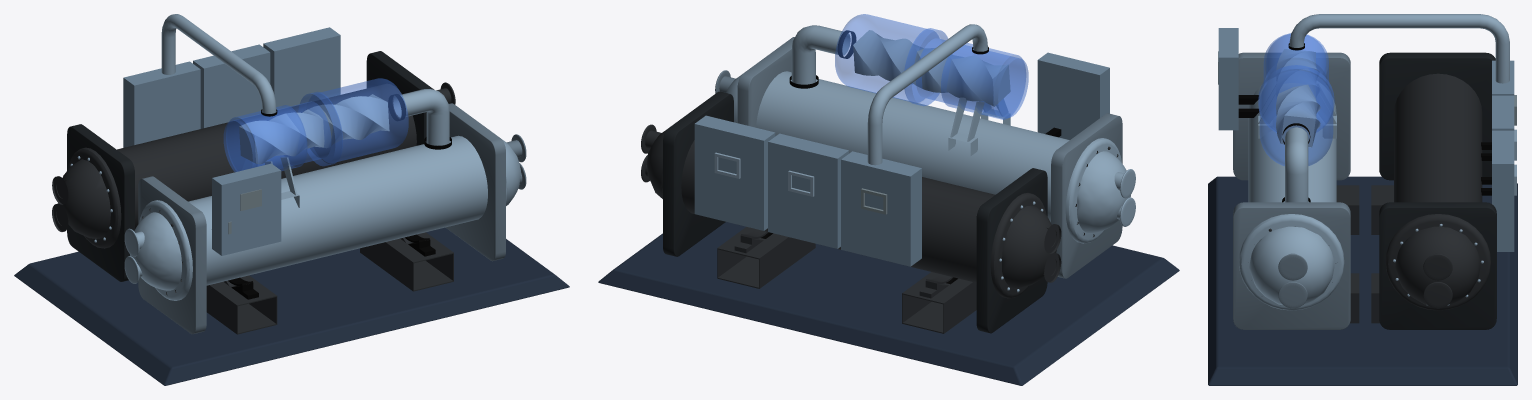
File: 螺杆机.glb
The picture shows the model from 3 angles, left to right: view 1: azimuth 30°, elevation 25°; view 2: azimuth 150°, elevation 25°; view 3: azimuth 270°, elevation 25°; orthographic projection. The views are drawn at different scales.
Parts seen in each view (by area): view 1: 立方体408, 柱体476, 柱体477, 立方体446, 柱体428, 柱体430, 立方体407, 立方体435, 立方体442, 立方体436, 立方体426, 柱体431 (+13 smaller); view 2: 立方体408, 柱体476, 立方体407, 立方体442, 立方体381, 柱体477, 立方体446, 柱体430, 柱体428, 立方体435, 柱体431, 立方体441 (+13 smaller); view 3: 立方体408, 柱体477, 立方体441, 立方体426, 立方体440, 柱体428, 柱体476, 立方体436, 球体031, 球体033, 平面030, 立方体446 (+19 smaller).
Part boxes in pixels (x1,y1,x2,y2): 立方体408: [14, 227, 569, 385]; 柱体476: [188, 135, 487, 285]; 柱体477: [117, 83, 416, 228]; 立方体446: [239, 94, 389, 164]; 柱体428: [309, 78, 408, 162]; 柱体430: [223, 101, 331, 172]; 立方体407: [123, 61, 200, 147]; 立方体435: [212, 163, 281, 255]; 立方体442: [263, 27, 340, 109]; 立方体436: [138, 176, 206, 334]; 立方体426: [445, 103, 505, 261]; 柱体431: [226, 105, 307, 171]; 立方体408: [598, 222, 1179, 385]; 柱体476: [756, 71, 1069, 222]; 立方体407: [841, 151, 921, 266]; 立方体442: [694, 115, 775, 230]; 立方体381: [768, 133, 848, 248]; 柱体477: [681, 140, 995, 282]; 立方体446: [853, 30, 1010, 106]; 柱体430: [916, 38, 1028, 117]; 柱体428: [835, 14, 939, 102]; 立方体435: [1037, 52, 1109, 139]; 柱体431: [941, 43, 1025, 119]; 立方体441: [663, 91, 733, 256]; 立方体408: [1208, 176, 1517, 385]; 柱体477: [1394, 73, 1482, 202]; 立方体441: [1379, 202, 1496, 329]; 立方体426: [1233, 202, 1350, 329]; 立方体440: [1379, 52, 1495, 180]; 柱体428: [1259, 70, 1333, 165]; 柱体476: [1248, 77, 1336, 202]; 立方体436: [1233, 52, 1350, 180]; 球体031: [1249, 226, 1334, 304]; 球体033: [1395, 226, 1480, 304]; 平面030: [1289, 14, 1509, 83]; 立方体446: [1276, 49, 1320, 147].
Size of the model in its own units: 147 by 82.08 by 94.87.
